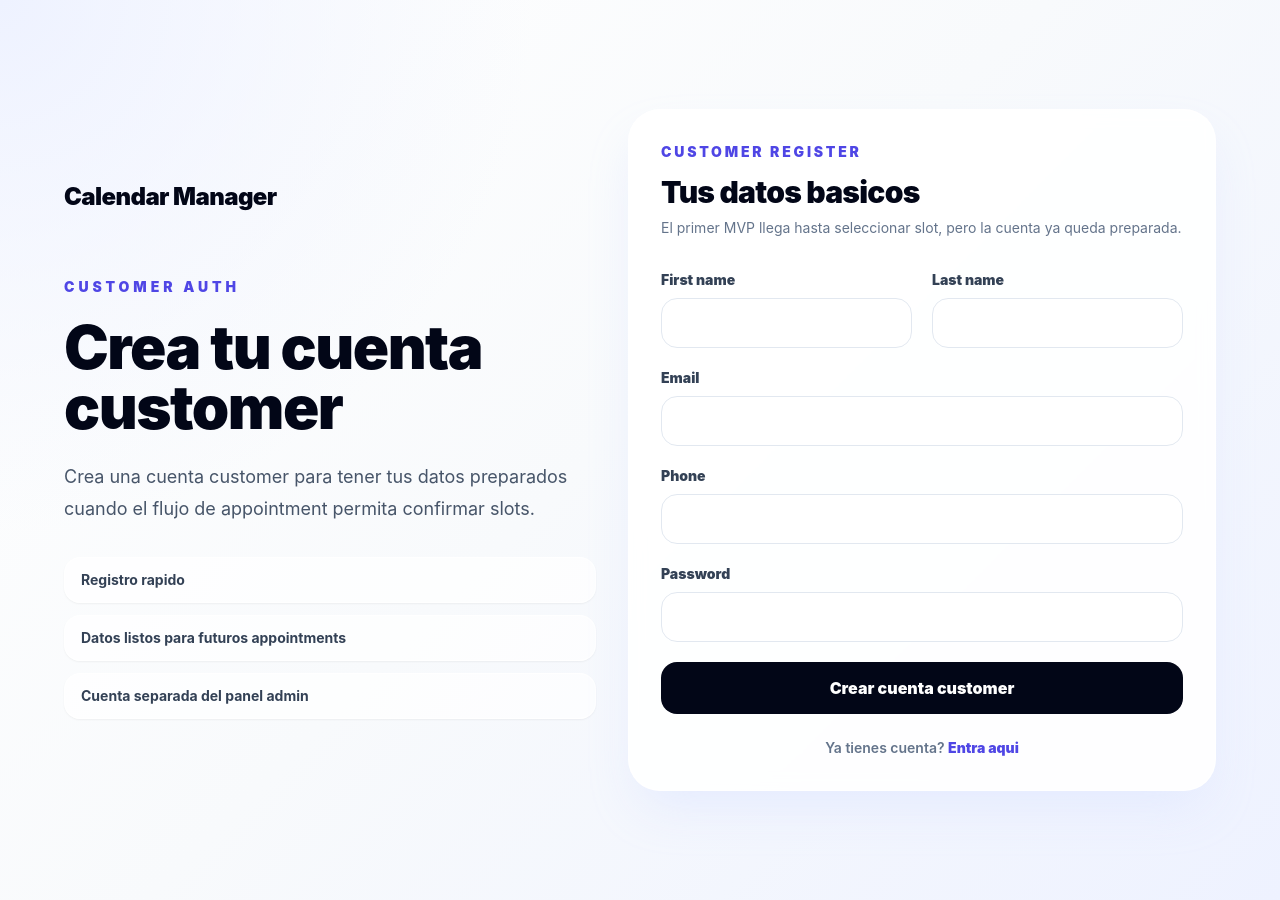
Test: auth pages › validates required customer registration fields
Click the button "Crear cuenta customer" at (922, 688), box [661,662,1183,714]
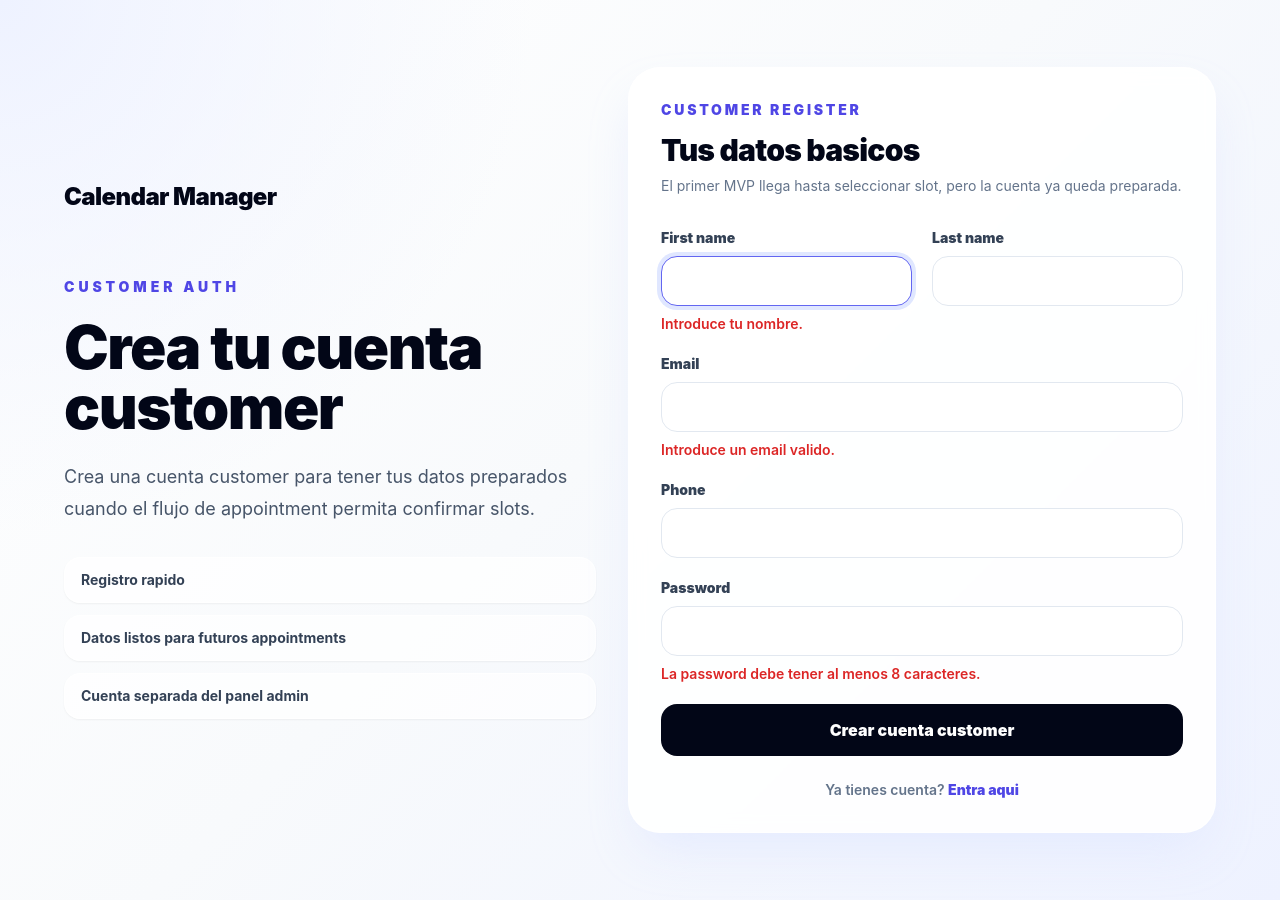
Now the text "Introduce tu nombre." is shown, box [661,315,803,332]
Now the text "Introduce un email valido." is shown, box [661,441,835,458]
